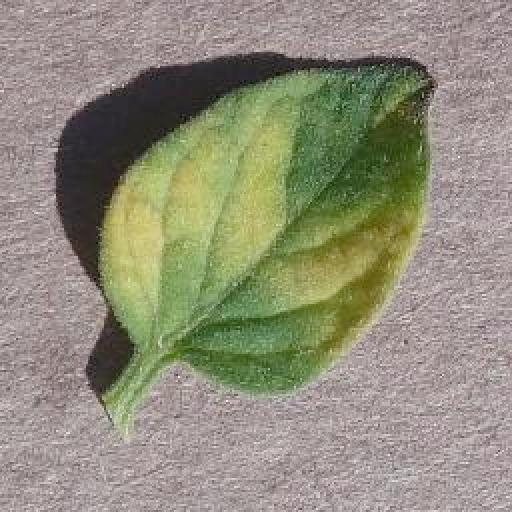disease_tomato: (100, 54, 436, 392)
